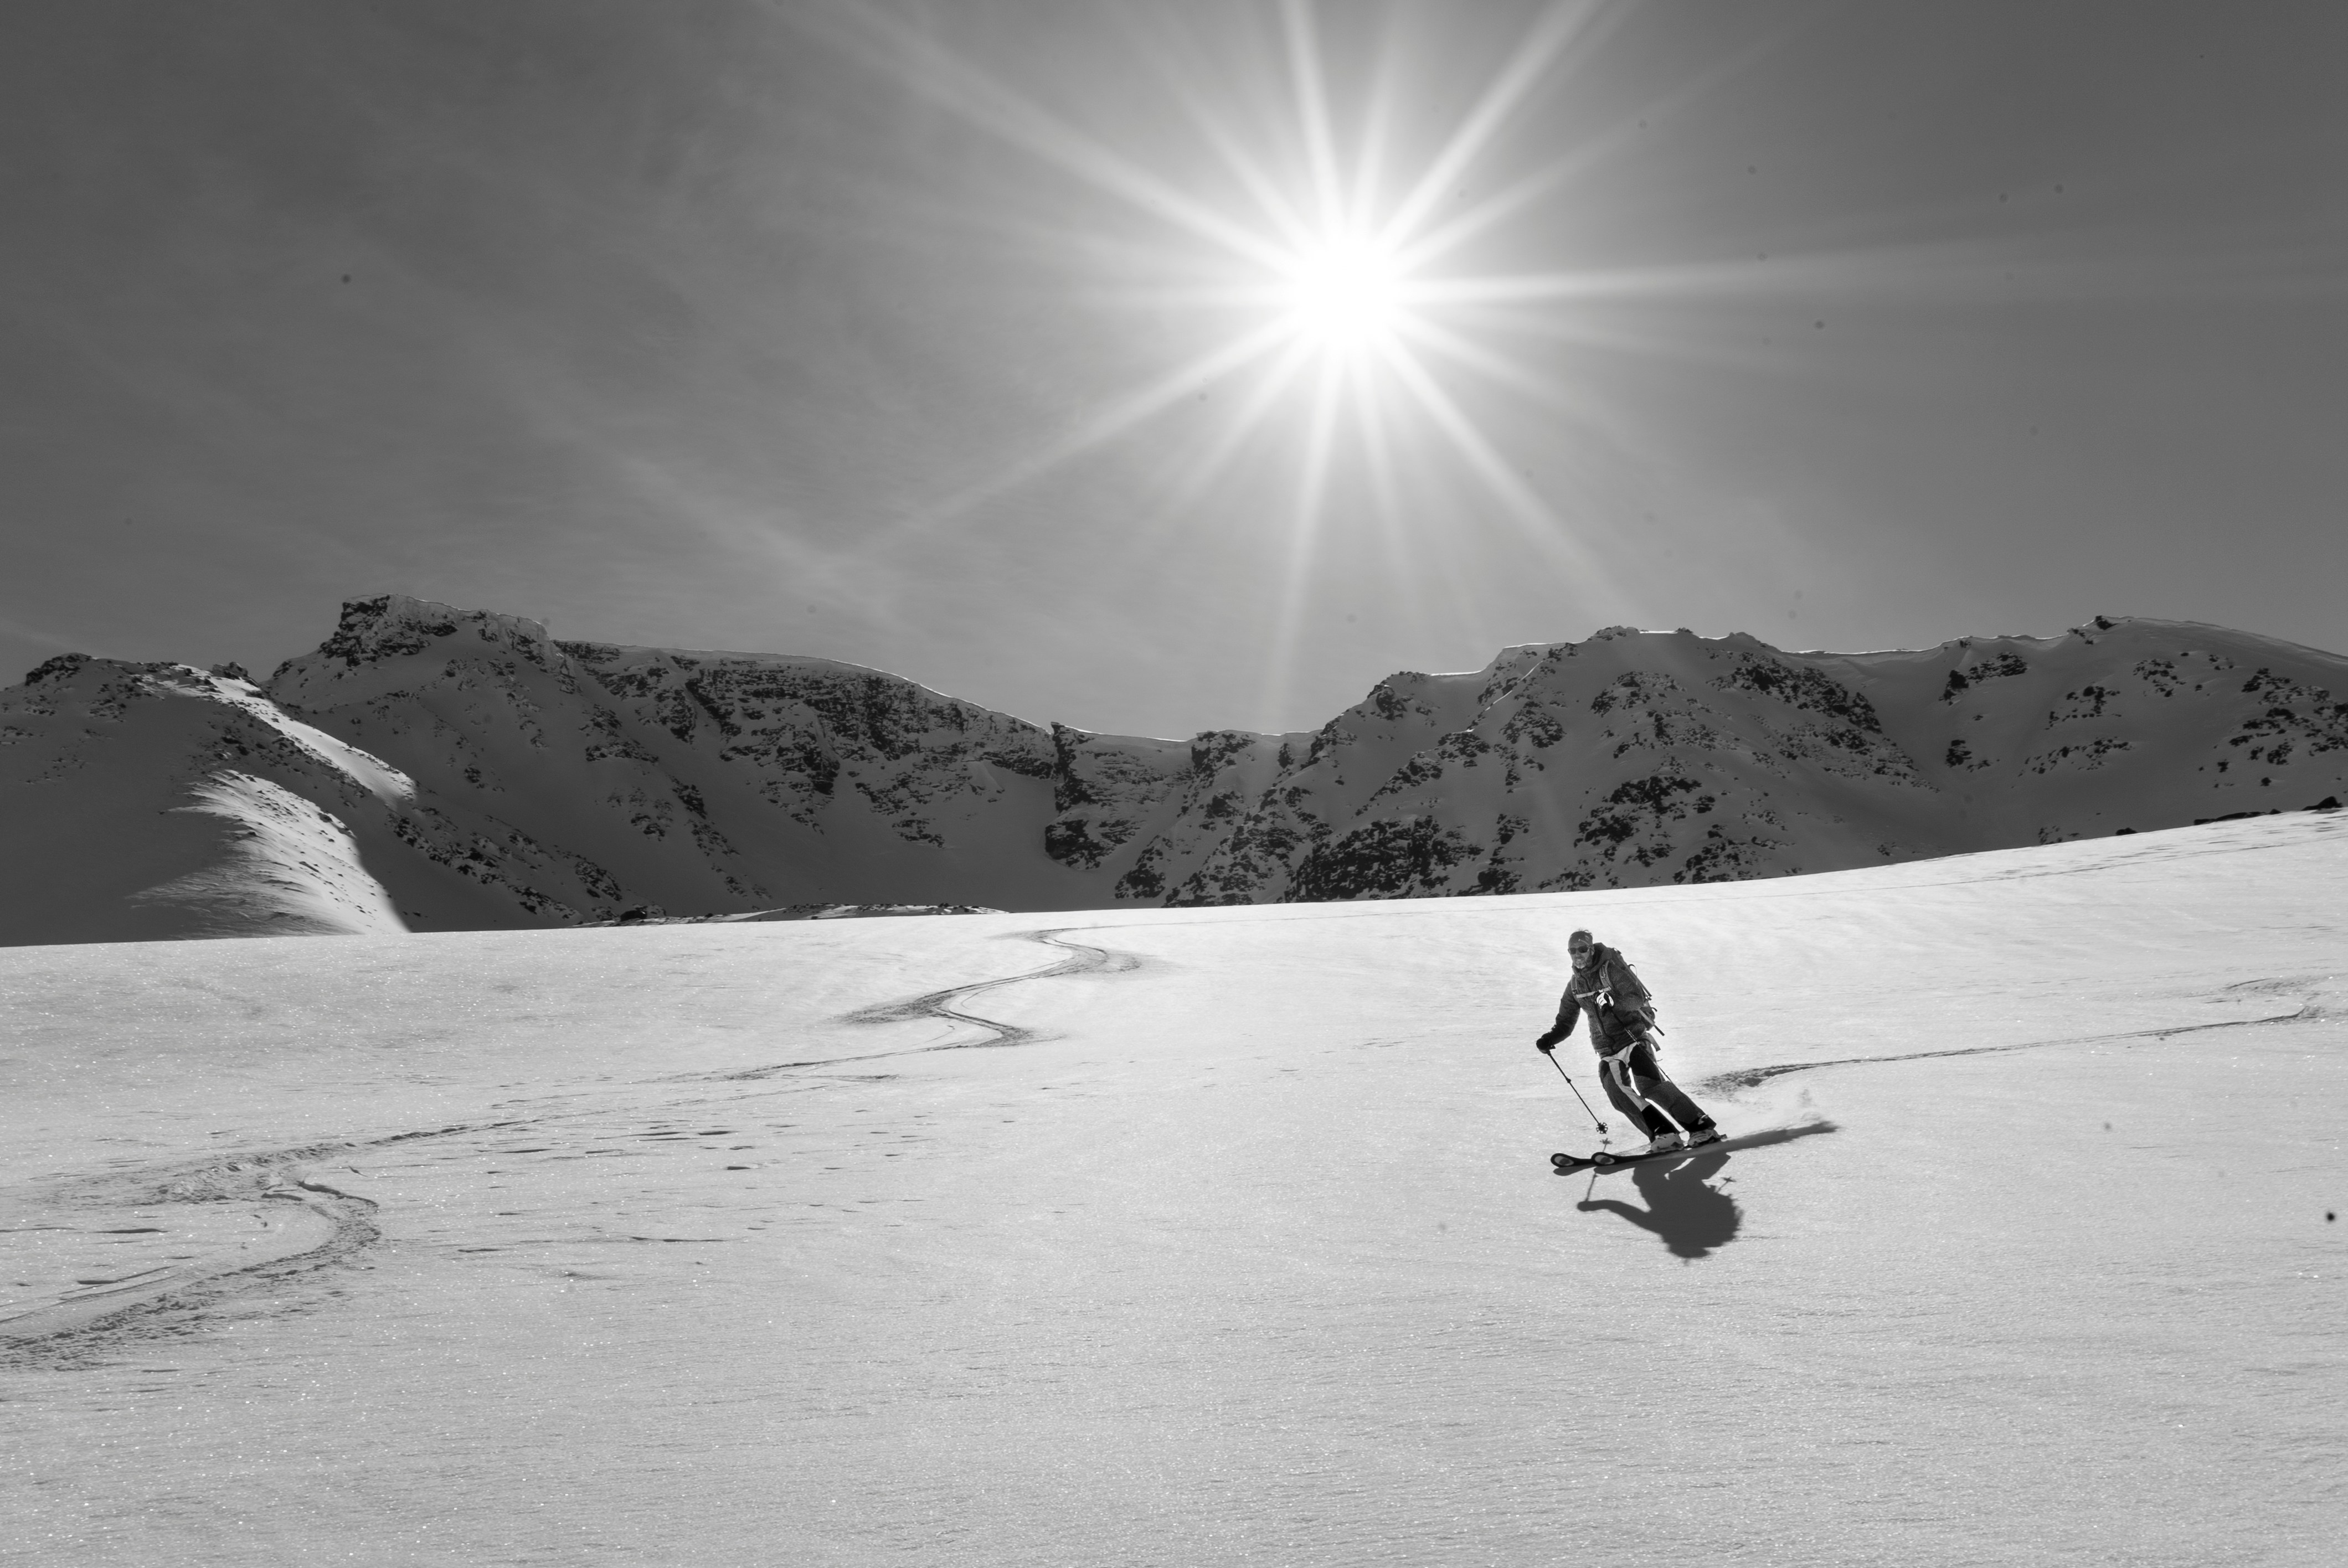skier: (1531, 926, 1837, 1172)
